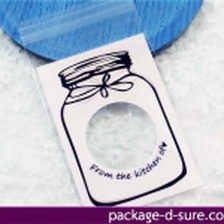snack: (10, 0, 212, 206)
